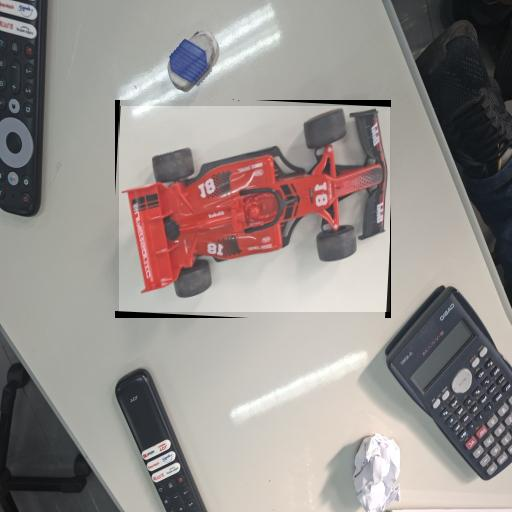carro: (119, 107, 389, 312)
